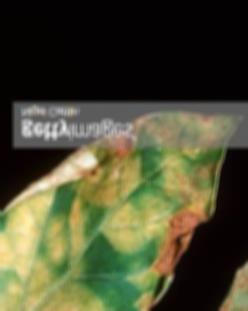Tomato mold leaf: (0, 85, 229, 311)
